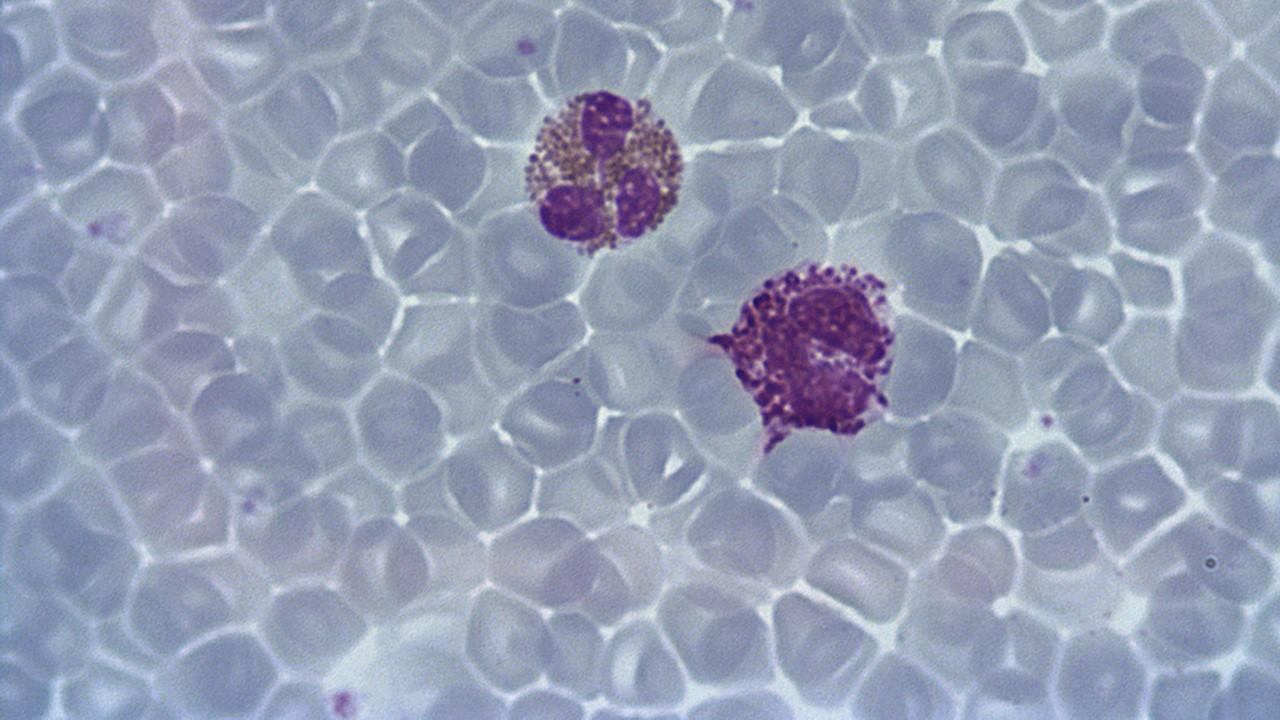RBC: (484, 514, 600, 609), (335, 514, 429, 626), (277, 308, 386, 404), (352, 373, 448, 480), (461, 584, 552, 695), (800, 535, 912, 624), (852, 47, 954, 144), (442, 430, 539, 532), (498, 377, 602, 472), (143, 107, 238, 206), (89, 259, 181, 360), (576, 251, 680, 340), (55, 167, 166, 250), (21, 332, 114, 431), (620, 406, 710, 508), (188, 371, 280, 470), (54, 2, 164, 84), (165, 190, 262, 280), (184, 20, 287, 103), (908, 124, 994, 220), (312, 127, 408, 212), (96, 76, 179, 168), (260, 67, 340, 162), (0, 404, 73, 505), (1111, 179, 1203, 259), (0, 268, 75, 366), (1154, 390, 1238, 474), (1010, 0, 1112, 66), (1049, 263, 1127, 347), (1058, 65, 1138, 144), (1134, 49, 1212, 125), (165, 0, 278, 29), (0, 8, 30, 115)
WBC: (518, 83, 688, 256)
